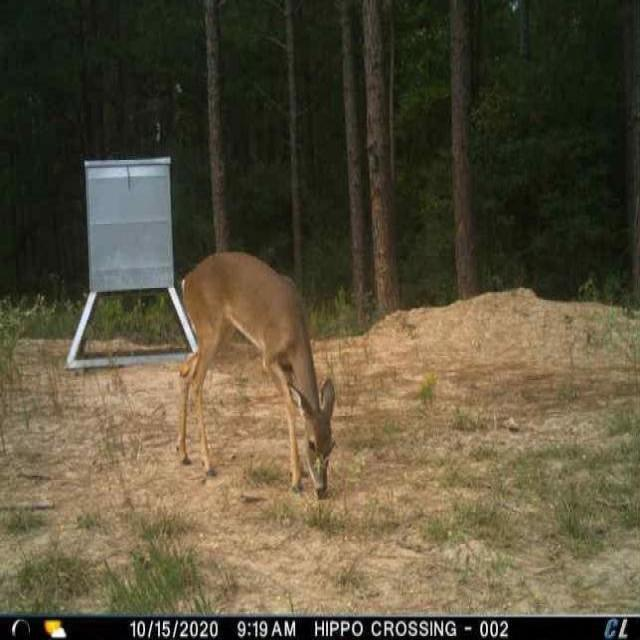deer: (173, 245, 341, 504)
